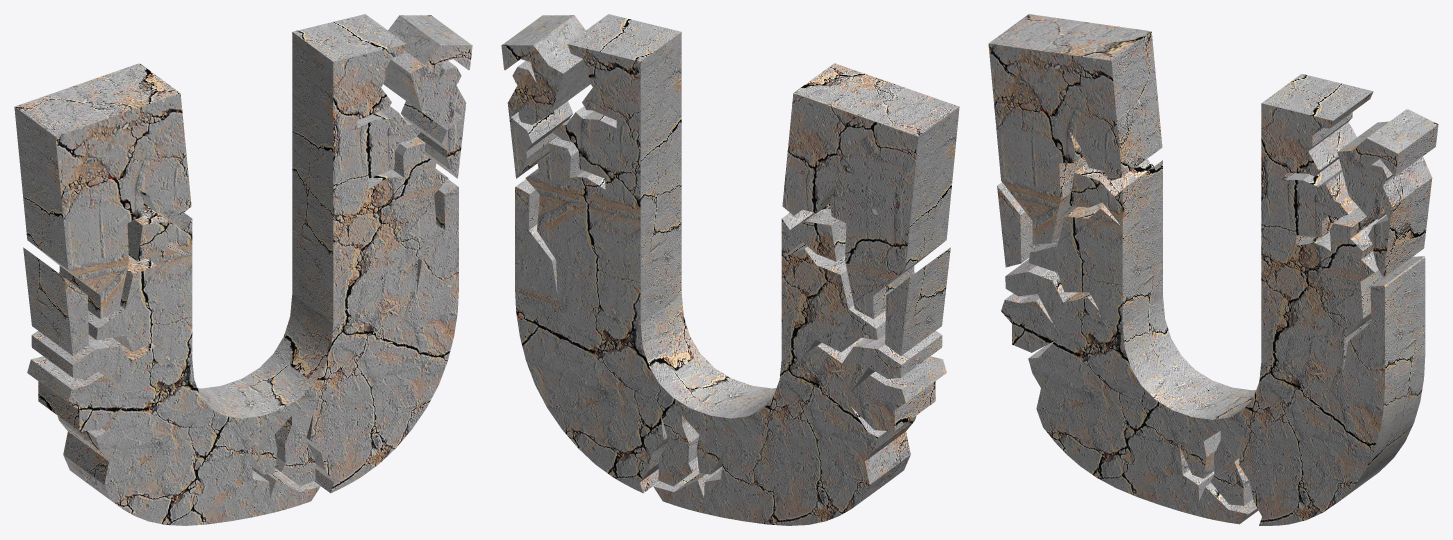
3 views of the same model, side by side, from view 1: azimuth 30°, elevation 25°; view 2: azimuth 150°, elevation 25°; view 3: azimuth 330°, elevation 25° (orthographic).
Visible parts, largest first — view 1: U; view 2: U; view 3: U.
Boxes of the visible parts, <box> form: U: <box>14,14,472,525</box>; U: <box>501,14,959,525</box>; U: <box>988,14,1438,525</box>.
Bounding box in the file's own units: 87.94 × 89.09 × 15.
Materials: 1 (1 with a texture image).
